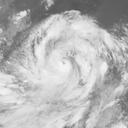cyclone: (19, 9, 109, 104)
